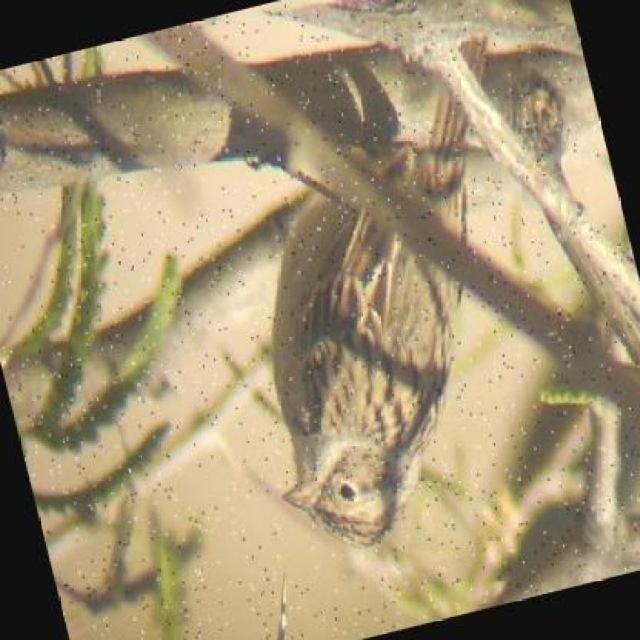Bird: (283, 36, 492, 543)
